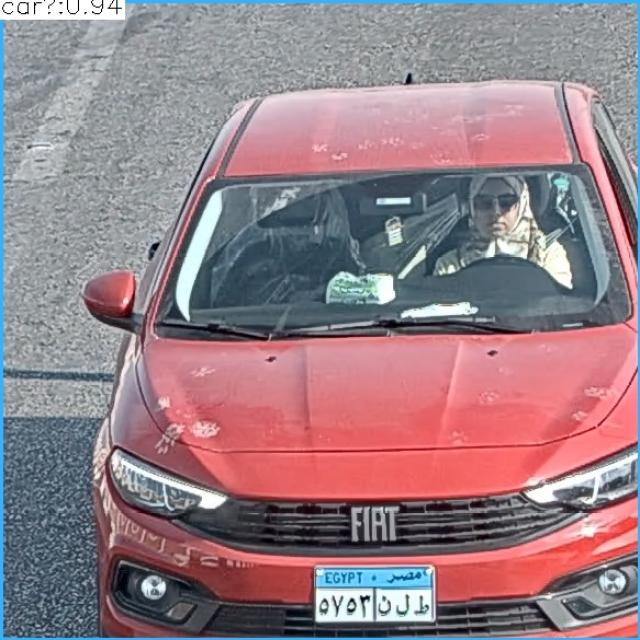windshield: (164, 169, 619, 313)
